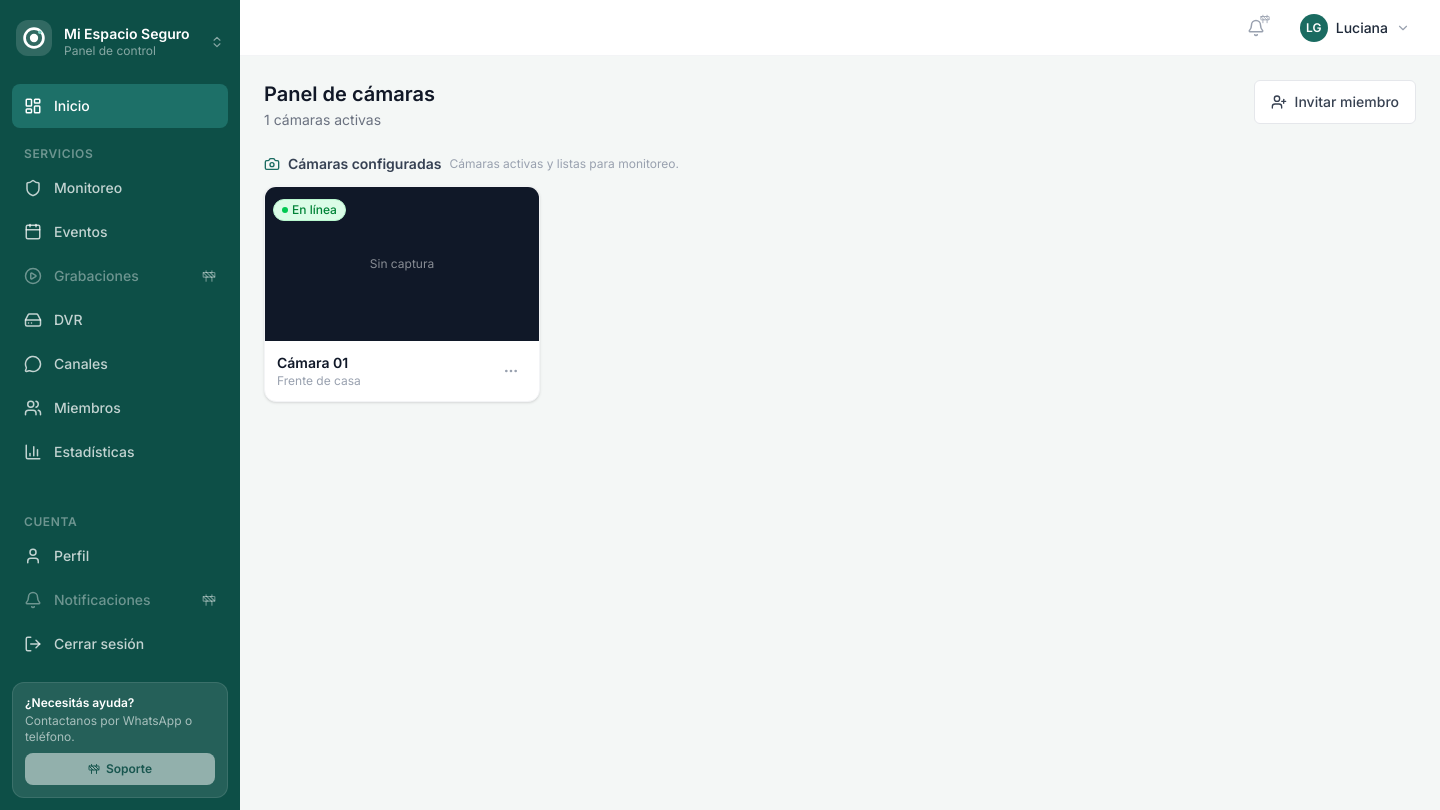
Test: DashboardPage › shows Conectando while the live request is in flight, then Sin señal once it fails
Check: the text "Cámara 01" is shown, box left=277, top=354, right=348, bottom=371
Hover over the text "Cámara 01" at (402, 294), box left=264, top=186, right=540, bottom=402
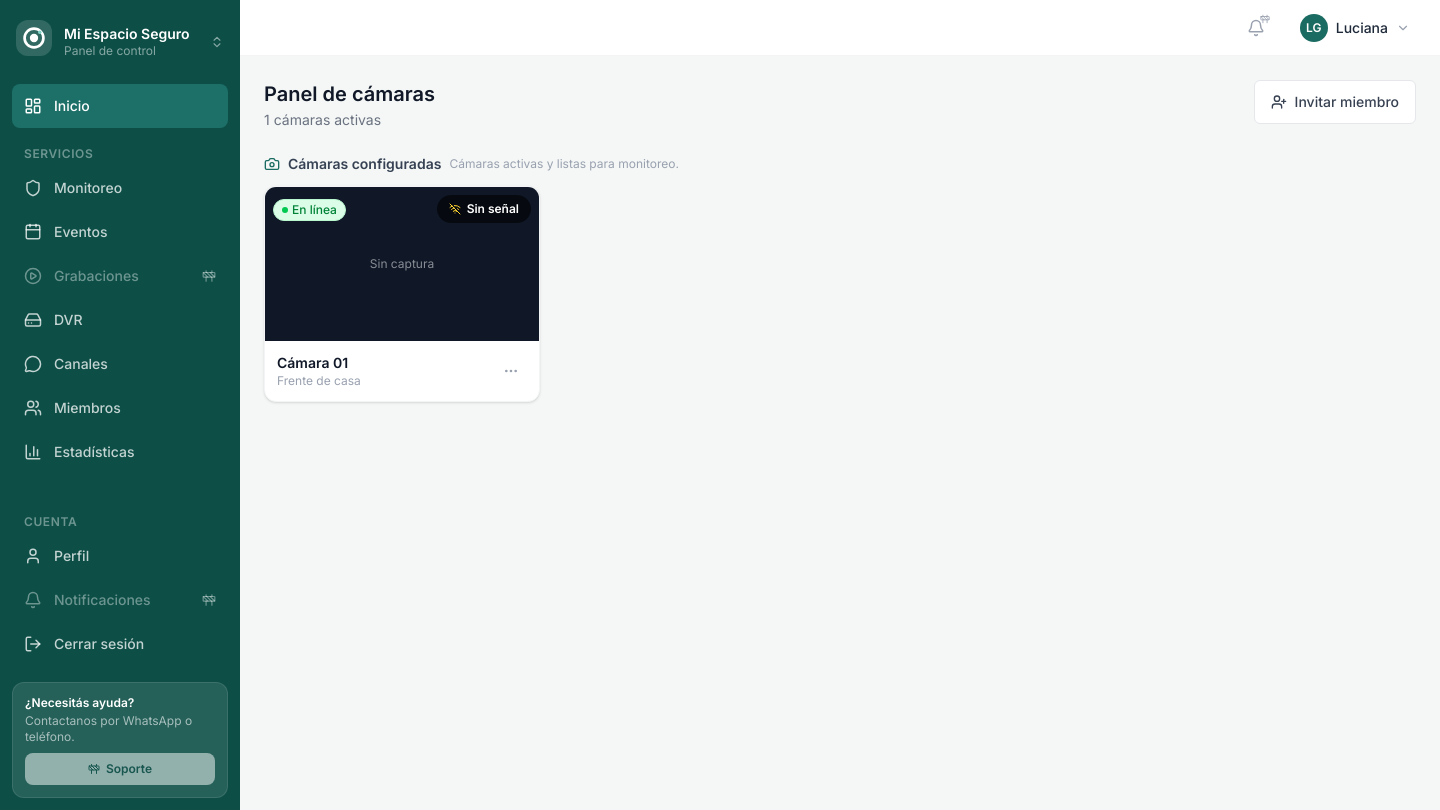
Check: the text "Sin señal" is shown, box left=437, top=195, right=531, bottom=223
